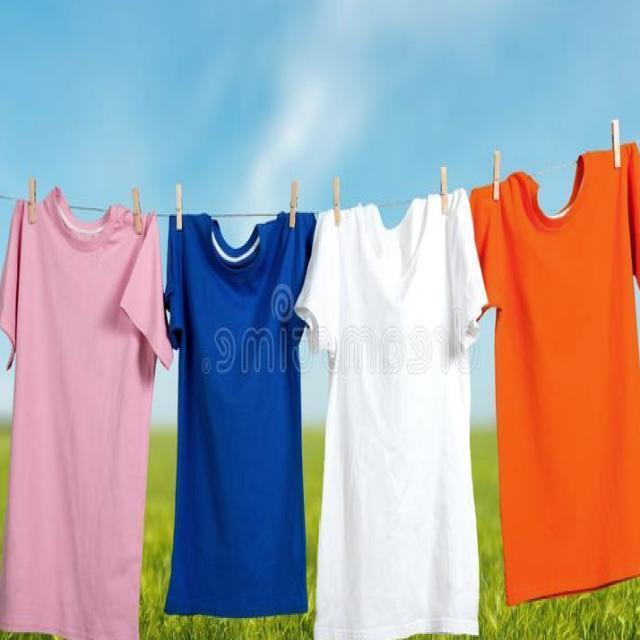clothes: (313, 167, 492, 640), (495, 116, 640, 616), (158, 186, 320, 624), (6, 187, 157, 640)
